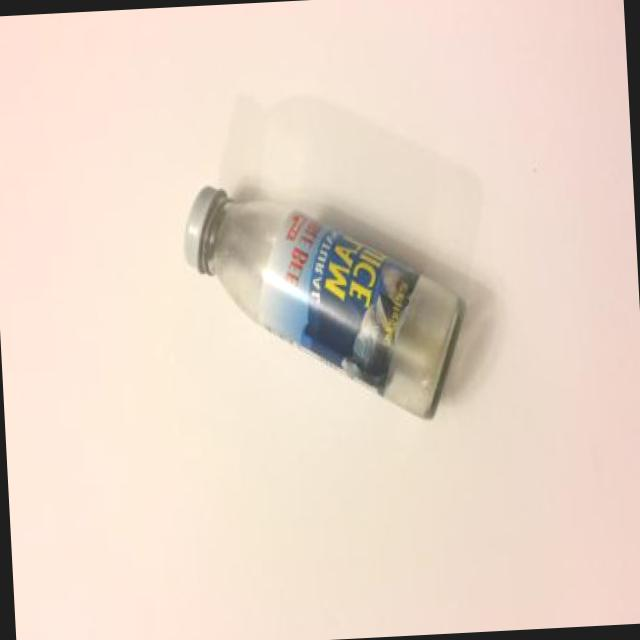chai_thuy_tinh: (199, 189, 464, 420)
